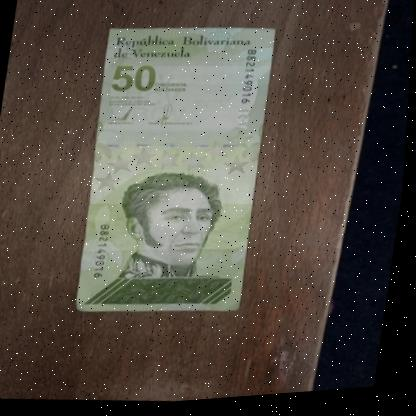fifty-front-vef: (72, 18, 280, 327)
